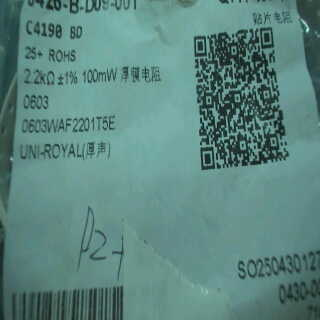2.2kR: (22, 66, 57, 91)
